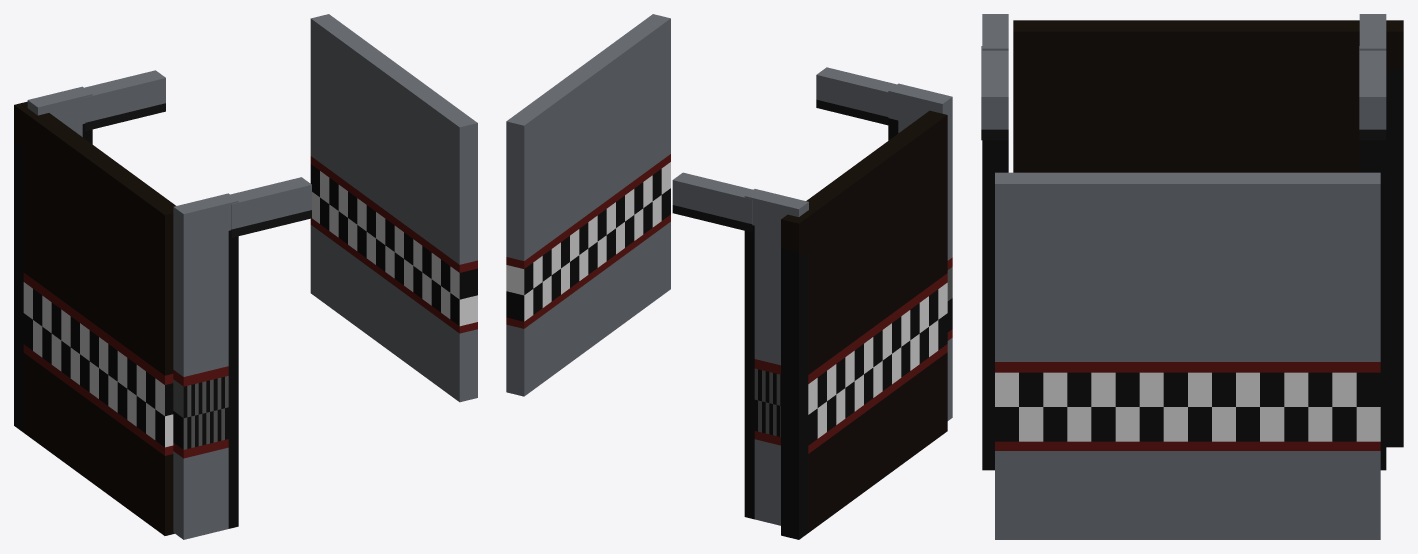
The model's file is ENVIRONMENT_OFFICE_WALL_NOWINDOW.fbx.
3 renders of one model, left to right at view 1: azimuth 30°, elevation 25°; view 2: azimuth 150°, elevation 25°; view 3: azimuth 270°, elevation 25°, orthographic. The views are drawn at different scales.
Visible parts, largest first — view 1: Cube.152, Cube.158, Cube.194, Cube.154, Cube.157, Cube.195; view 2: Cube.152, Cube.158, Cube.195, Cube.194, Cube.154, Cube.157; view 3: Cube.158, Cube.152, Cube.194, Cube.195, Cube.157, Cube.154.
Boxes of the visible parts, box(x1,y1,x2,y2) form: Cube.152: box(14, 101, 175, 535); Cube.158: box(310, 14, 477, 402); Cube.194: box(173, 193, 238, 539); Cube.154: box(84, 70, 165, 130); Cube.157: box(230, 177, 311, 237); Cube.195: box(27, 86, 92, 144); Cube.152: box(781, 110, 947, 539); Cube.158: box(506, 14, 670, 396); Cube.195: box(744, 189, 808, 525); Cube.194: box(888, 83, 952, 420); Cube.154: box(672, 172, 752, 232); Cube.157: box(816, 67, 896, 125); Cube.158: box(995, 172, 1380, 539); Cube.152: box(1013, 20, 1403, 447); Cube.194: box(982, 14, 1008, 470); Cube.195: box(1359, 14, 1386, 470); Cube.157: box(981, 46, 1008, 140); Cube.154: box(1359, 46, 1386, 140).
Bounding box in the file's own units: 633 × 680 × 585.
